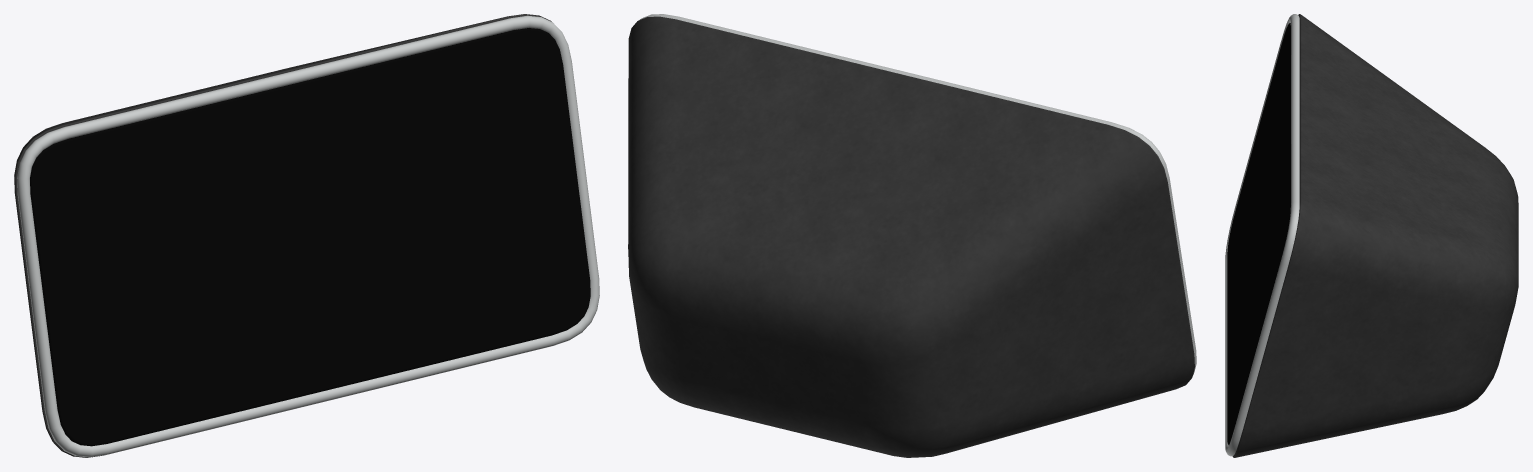
File: clock.fbx
3 views of the same model, side by side, from view 1: azimuth 30°, elevation 25°; view 2: azimuth 150°, elevation 25°; view 3: azimuth 270°, elevation 25° (orthographic). The views are drawn at different scales.
Parts seen in each view (by area): view 1: Shape001; view 2: Shape001; view 3: Shape001.
Boxes of the visible parts, x1,y1,x2,y2 form: Shape001: [14, 14, 599, 457]; Shape001: [628, 14, 1196, 457]; Shape001: [1225, 14, 1518, 457].
Size of the model in its own units: 14.96 by 8.02 by 8.27.
Materials: 1 (1 with a texture image).
